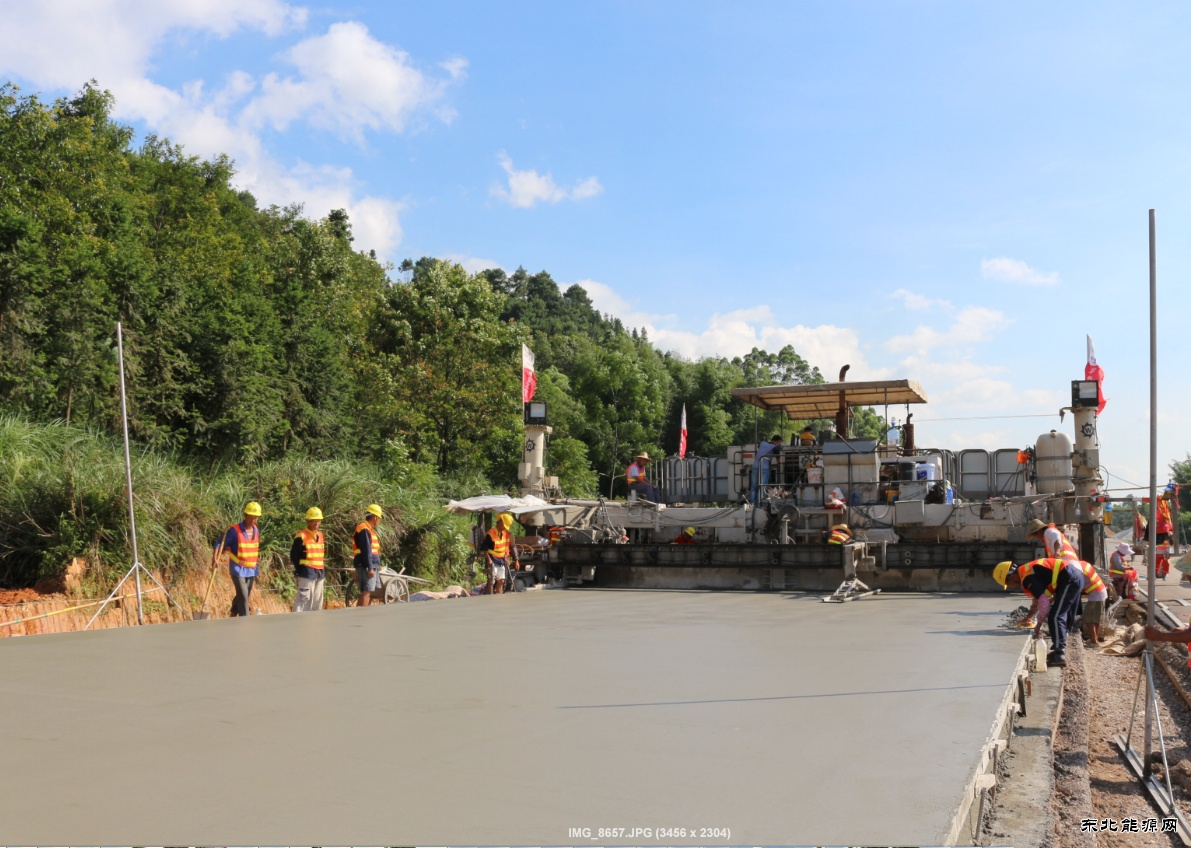none: (1028, 517, 1045, 539), (637, 451, 649, 467), (769, 434, 783, 447), (802, 425, 812, 435)
yellow: (991, 559, 1022, 592), (241, 501, 262, 525), (305, 506, 323, 529), (365, 504, 382, 527), (495, 513, 512, 532), (683, 526, 695, 540)
